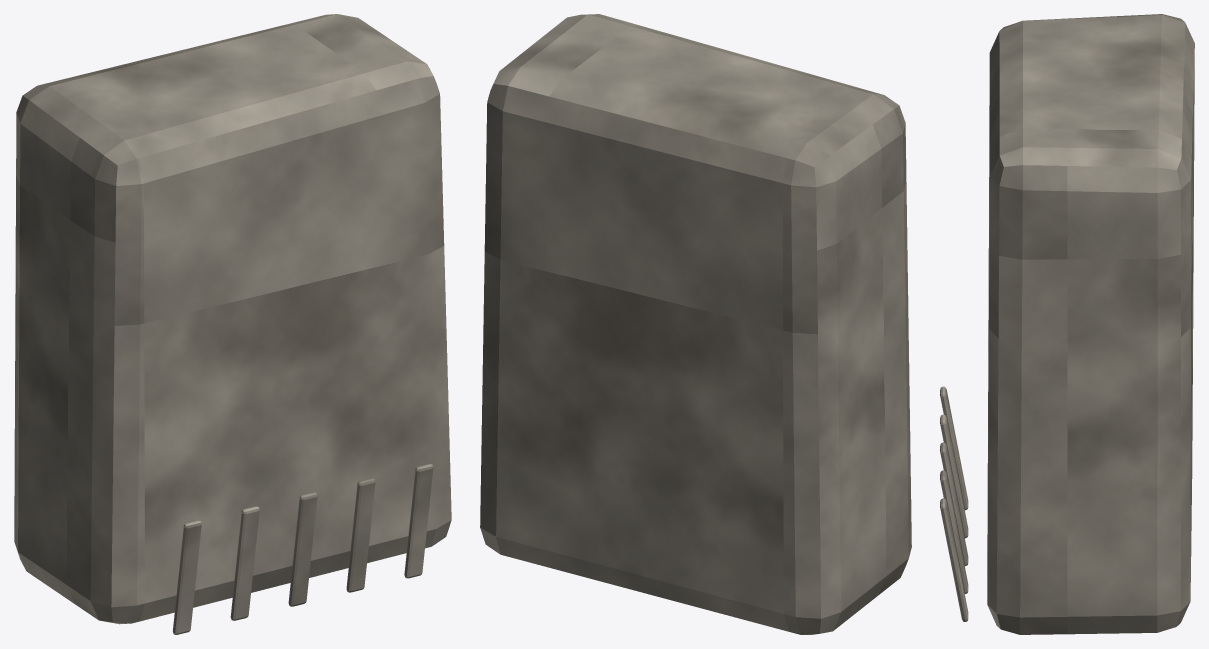
Rendered from D05_dust_sheet_furniture_v3.glb.
3 renders of one model, left to right at view 1: azimuth 30°, elevation 25°; view 2: azimuth 150°, elevation 25°; view 3: azimuth 270°, elevation 25°, orthographic. The views are drawn at different scales.
Visible parts, largest first — view 1: D05_dust_sheet_furniture_v3; view 2: D05_dust_sheet_furniture_v3; view 3: D05_dust_sheet_furniture_v3.
Boxes of the visible parts, x1,y1,x2,y2 form: D05_dust_sheet_furniture_v3: (14, 14, 451, 634); D05_dust_sheet_furniture_v3: (480, 14, 911, 634); D05_dust_sheet_furniture_v3: (940, 14, 1194, 634).
Size of the model in its own units: 1.14 by 1.5 by 0.7108.
1 material, 1 textured.
